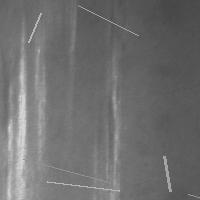scratches: (5, 30, 27, 198), (18, 154, 114, 187), (73, 0, 143, 40), (32, 44, 51, 162), (108, 62, 123, 195), (42, 177, 124, 196), (24, 8, 46, 47), (159, 151, 175, 196), (183, 189, 200, 200)
